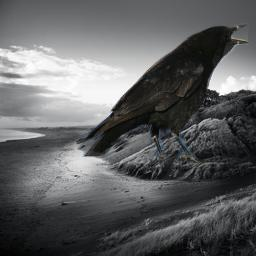Crow: (80, 21, 252, 168)
